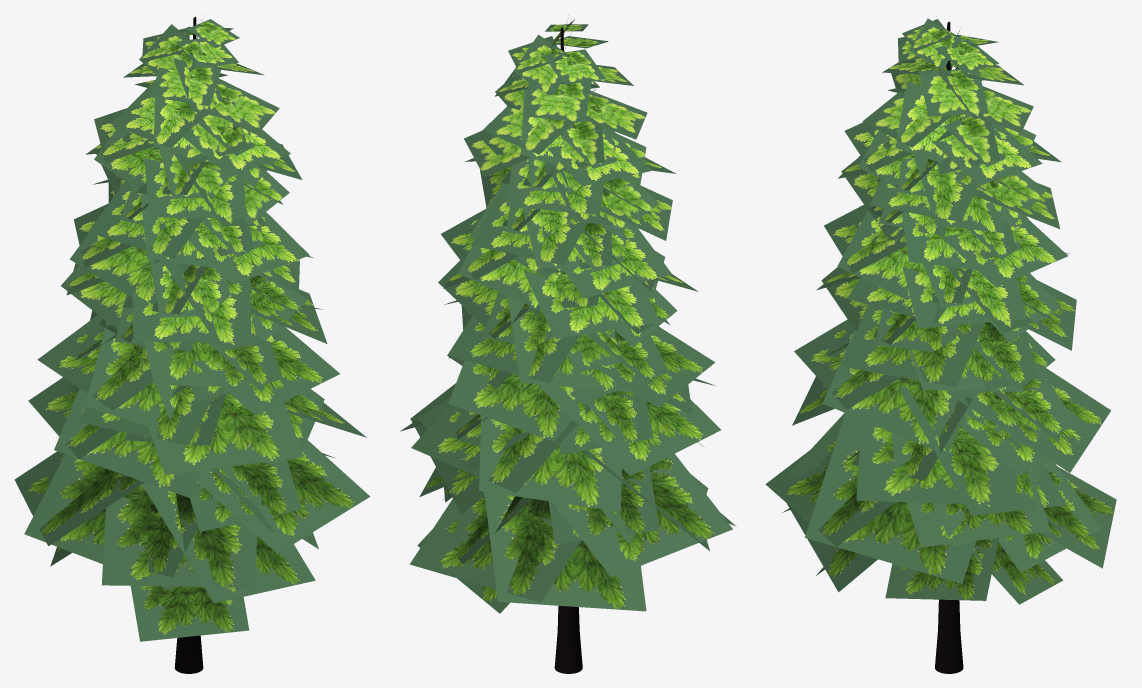
The model's file is tree.glb.
The picture shows the model from 3 angles, left to right: view 1: azimuth 30°, elevation 25°; view 2: azimuth 150°, elevation 25°; view 3: azimuth 270°, elevation 25°; orthographic projection.
Visible parts, largest first — view 1: pine green tree; view 2: pine green tree; view 3: pine green tree.
Part boxes in pixels (left/top/right/bottom): pine green tree: left=14, top=16, right=370, bottom=673; pine green tree: left=400, top=19, right=736, bottom=673; pine green tree: left=765, top=18, right=1116, bottom=673.
Size of the model in its own units: 26.51 by 54.79 by 27.36.
2 materials, 2 textured.
